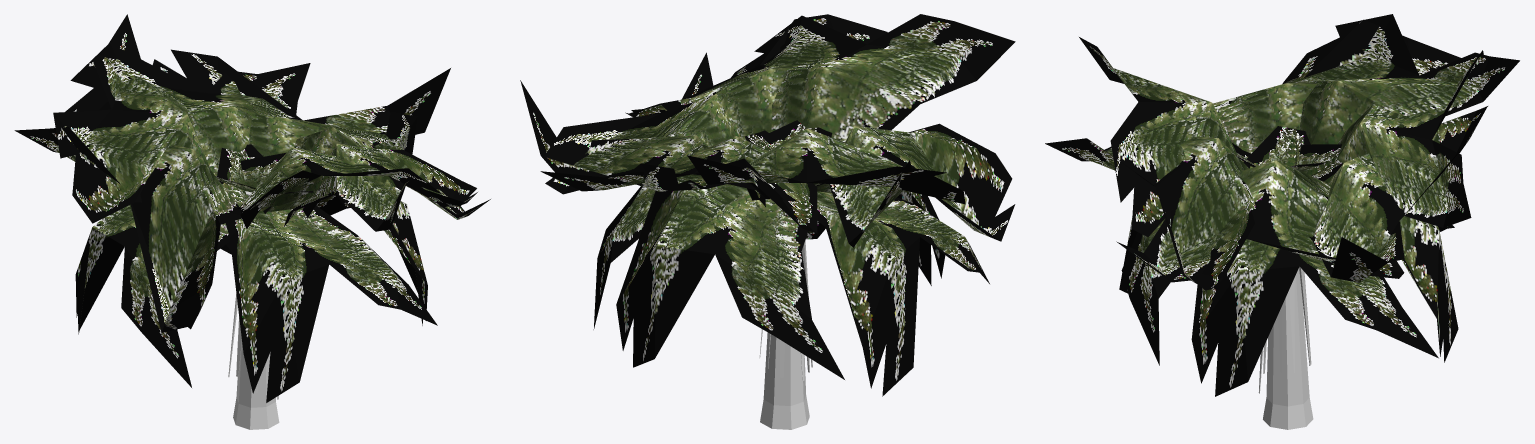
File: tree-fern.fbx
3 renders of one model, left to right at view 1: azimuth 30°, elevation 25°; view 2: azimuth 150°, elevation 25°; view 3: azimuth 270°, elevation 25°, orthographic. The views are drawn at different scales.
Visible parts, largest first — view 1: fern-leaves, tree-fern; view 2: fern-leaves, tree-fern; view 3: fern-leaves, tree-fern.
Boxes of the visible parts, left/top/right/bottom form: fern-leaves: left=14, top=14, right=490, bottom=402; tree-fern: left=228, top=191, right=279, bottom=429; fern-leaves: left=520, top=14, right=1015, bottom=396; tree-fern: left=759, top=240, right=812, bottom=429; fern-leaves: left=1045, top=14, right=1519, bottom=396; tree-fern: left=1258, top=266, right=1313, bottom=429.
Size of the model in its own units: 623 by 497 by 614.
3 materials, 1 textured.
